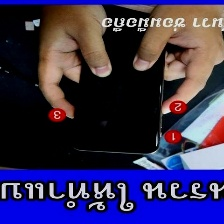phone: (61, 0, 174, 159)
